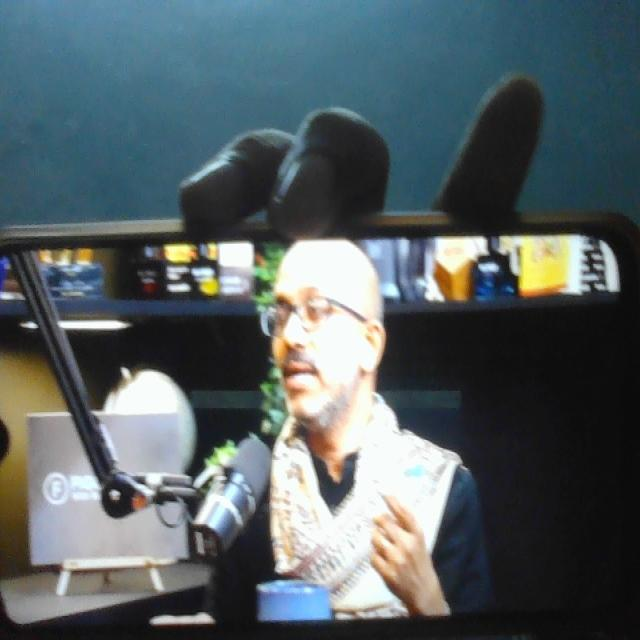fake: (258, 183, 392, 436)
